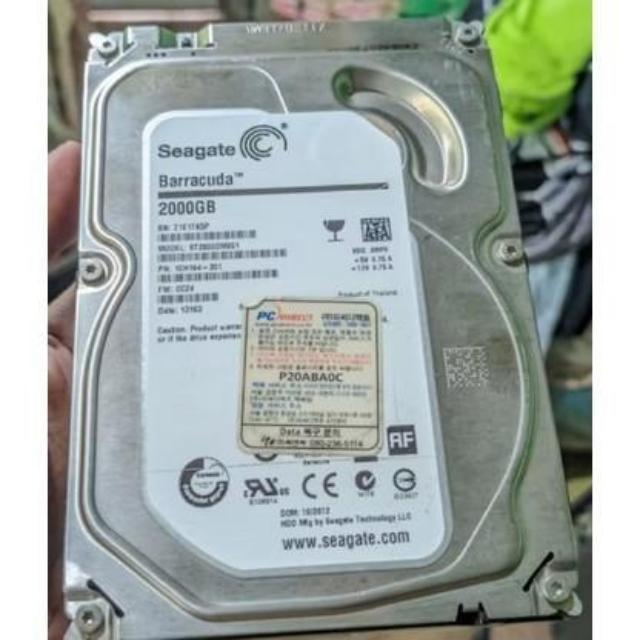DISK: (70, 20, 584, 640)
